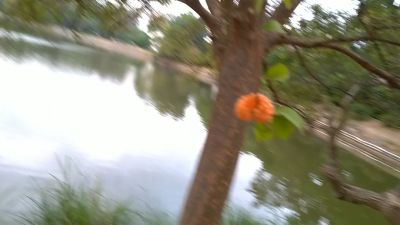eggs: (234, 92, 274, 122)
